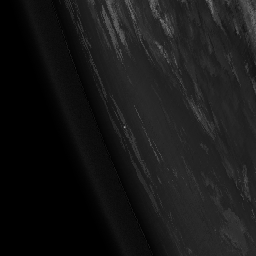Target: (121, 124, 127, 130)
